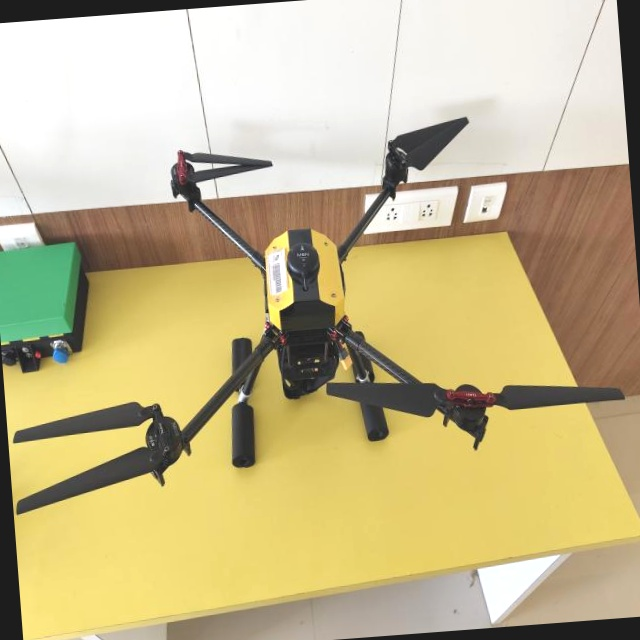quadcopter: (0, 99, 639, 527)
